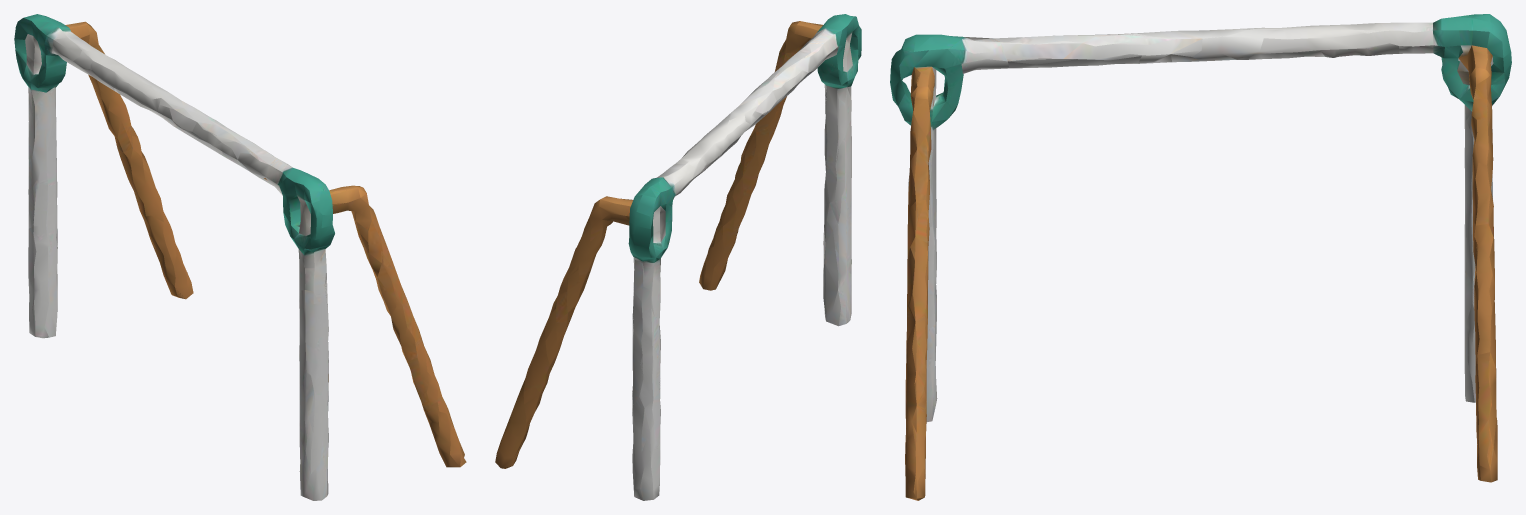
The model's file is pueblo_porteria.glb.
3 renders of one model, left to right at view 1: azimuth 30°, elevation 25°; view 2: azimuth 150°, elevation 25°; view 3: azimuth 270°, elevation 25°, orthographic. The views are drawn at different scales.
Visible parts, largest first — view 1: tripo_node_02b2bb71-c1f9-4a7c-a014-2f1da4822725; view 2: tripo_node_02b2bb71-c1f9-4a7c-a014-2f1da4822725; view 3: tripo_node_02b2bb71-c1f9-4a7c-a014-2f1da4822725.
Boxes of the visible parts, x1,y1,x2,y2 form: tripo_node_02b2bb71-c1f9-4a7c-a014-2f1da4822725: (14,14,466,500); tripo_node_02b2bb71-c1f9-4a7c-a014-2f1da4822725: (495,14,861,500); tripo_node_02b2bb71-c1f9-4a7c-a014-2f1da4822725: (890,14,1511,500).
Bounding box in the file's own units: 0.4385 × 0.6767 × 0.9985.
Materials: 1 (1 with a texture image).
